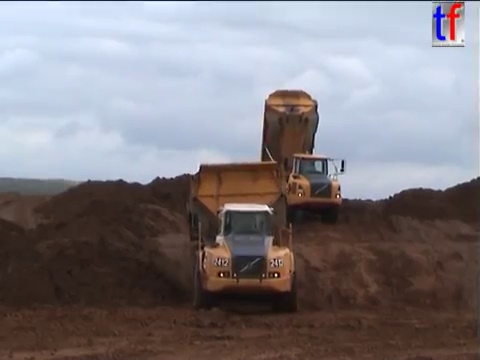truck: (183, 159, 301, 314), (254, 87, 346, 225)
